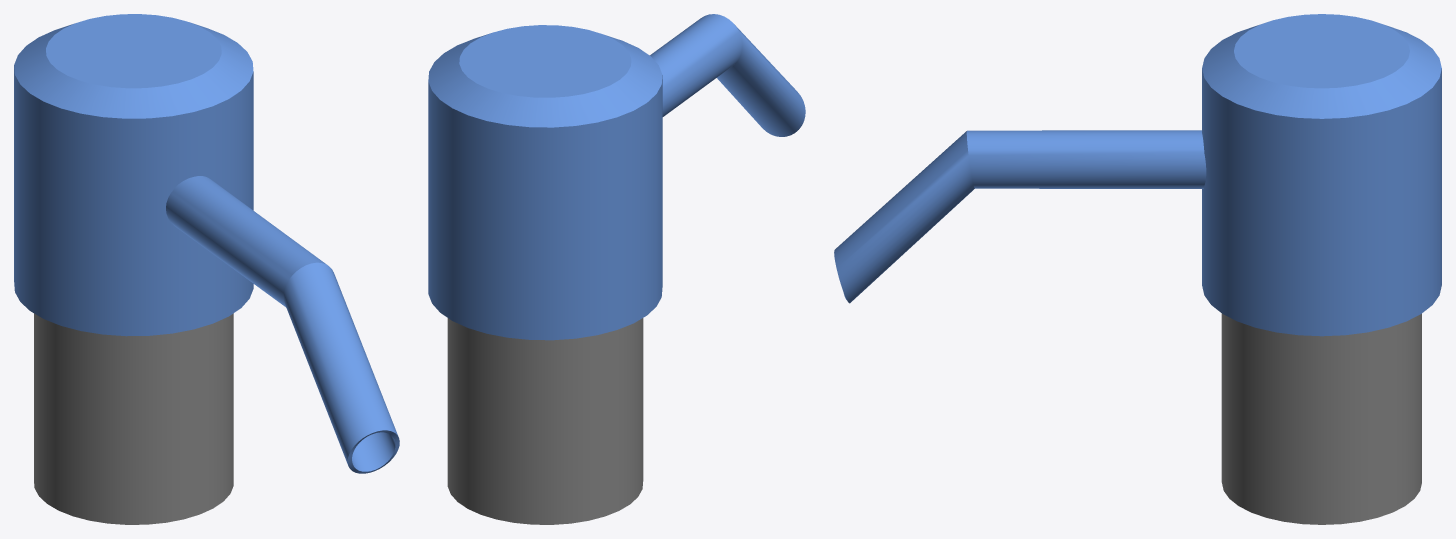
Rendered from SM_Shampoo_Cover_A.fbx.
3 views of the same model, side by side, from view 1: azimuth 30°, elevation 25°; view 2: azimuth 150°, elevation 25°; view 3: azimuth 270°, elevation 25° (orthographic). The views are drawn at different scales.
Parts seen in each view (by area): view 1: Cylinder.001, Cylinder.003, Cylinder.005; view 2: Cylinder.001, Cylinder.003, Cylinder.005; view 3: Cylinder.001, Cylinder.003, Cylinder.005.
Part boxes in pixels (<box>): Cylinder.001: <box>14,14,253,336</box>; Cylinder.003: <box>34,313,233,524</box>; Cylinder.005: <box>166,176,399,473</box>; Cylinder.001: <box>428,25,662,340</box>; Cylinder.003: <box>447,318,643,524</box>; Cylinder.005: <box>650,14,805,136</box>; Cylinder.001: <box>1202,14,1441,336</box>; Cylinder.003: <box>1221,313,1421,524</box>; Cylinder.005: <box>834,130,1206,303</box>.
Size of the model in its own units: 14.95 by 29.69 by 37.9.
